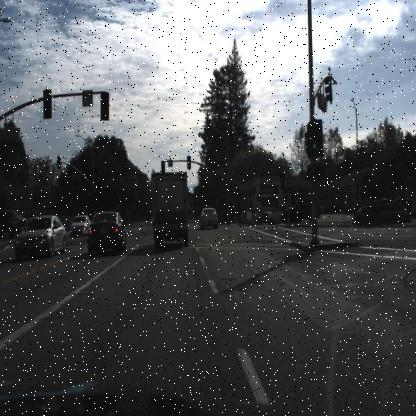car: (14, 214, 68, 263), (84, 207, 128, 256), (352, 196, 400, 230), (265, 198, 292, 227), (69, 210, 92, 237), (199, 202, 220, 230)
trafficLight-Green: (308, 116, 321, 155)
truck: (149, 168, 190, 258)
